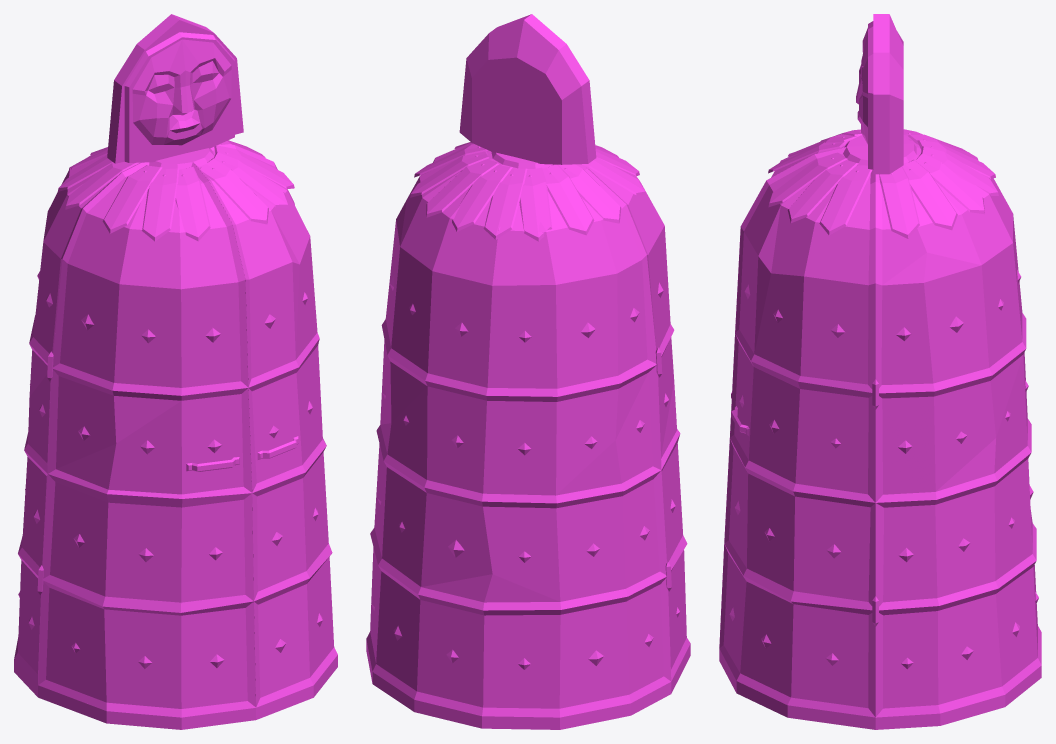
File: SM_IronMaiden_Fantasy.fbx
The picture shows the model from 3 angles, left to right: view 1: azimuth 30°, elevation 25°; view 2: azimuth 150°, elevation 25°; view 3: azimuth 270°, elevation 25°; orthographic projection.
Visible parts, largest first — view 1: SM_IronMaiden_Fantasy_Door_R, SM_IronMaiden_Fantasy_Door_L, SM_IronMaiden_Fantasy_Base; view 2: SM_IronMaiden_Fantasy_Base, SM_IronMaiden_Fantasy_Door_R; view 3: SM_IronMaiden_Fantasy_Base, SM_IronMaiden_Fantasy_Door_L, SM_IronMaiden_Fantasy_Door_R.
Part boxes in pixels (x1,y1,x2,y2): SM_IronMaiden_Fantasy_Door_R: (37,161,256,717); SM_IronMaiden_Fantasy_Door_L: (193,144,337,707); SM_IronMaiden_Fantasy_Base: (14,14,337,729); SM_IronMaiden_Fantasy_Base: (366,14,690,729); SM_IronMaiden_Fantasy_Door_R: (579,145,690,680); SM_IronMaiden_Fantasy_Base: (719,14,1041,729); SM_IronMaiden_Fantasy_Door_L: (719,147,878,717); SM_IronMaiden_Fantasy_Door_R: (719,129,861,646).
Size of the model in its own units: 1.28 by 2.79 by 1.26.
